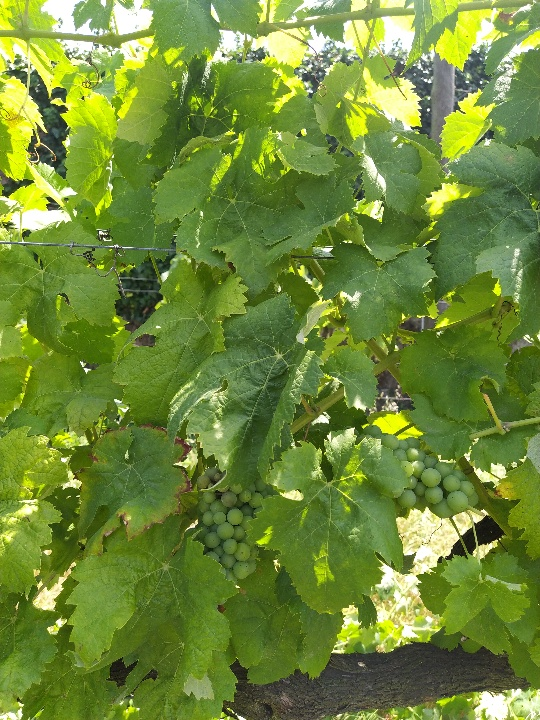grape: (352, 420, 480, 521), (193, 466, 272, 588)
